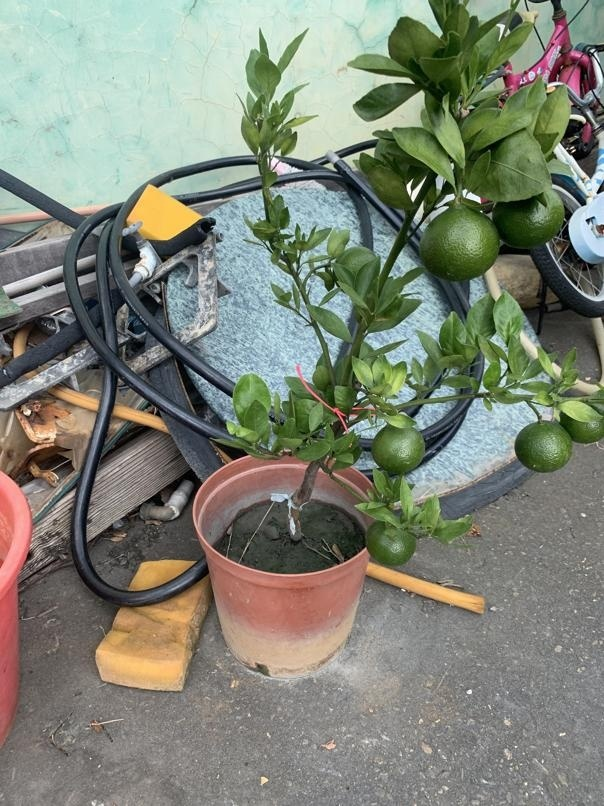Tangerine: (415, 199, 499, 283), (513, 415, 574, 473), (369, 416, 425, 475), (364, 516, 418, 567)
